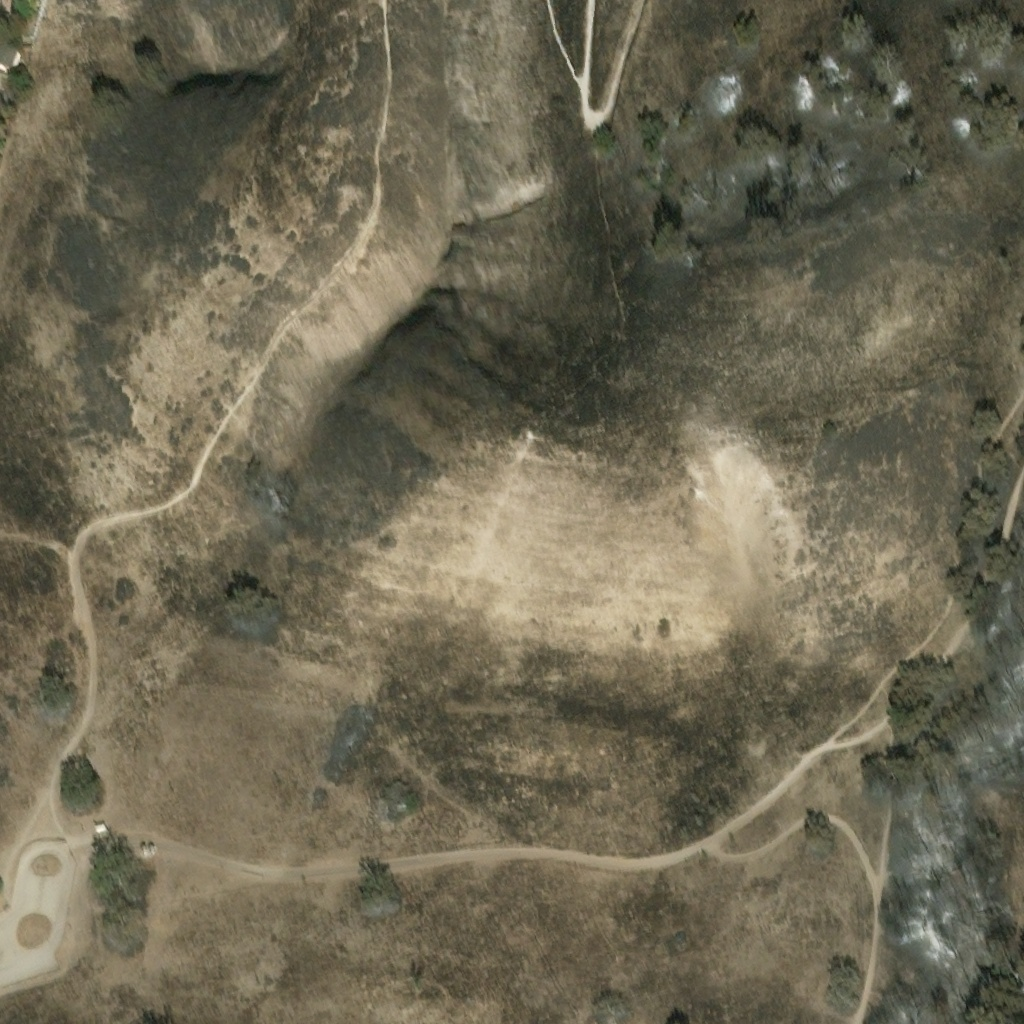4 un-classified: (89, 841, 100, 851)
